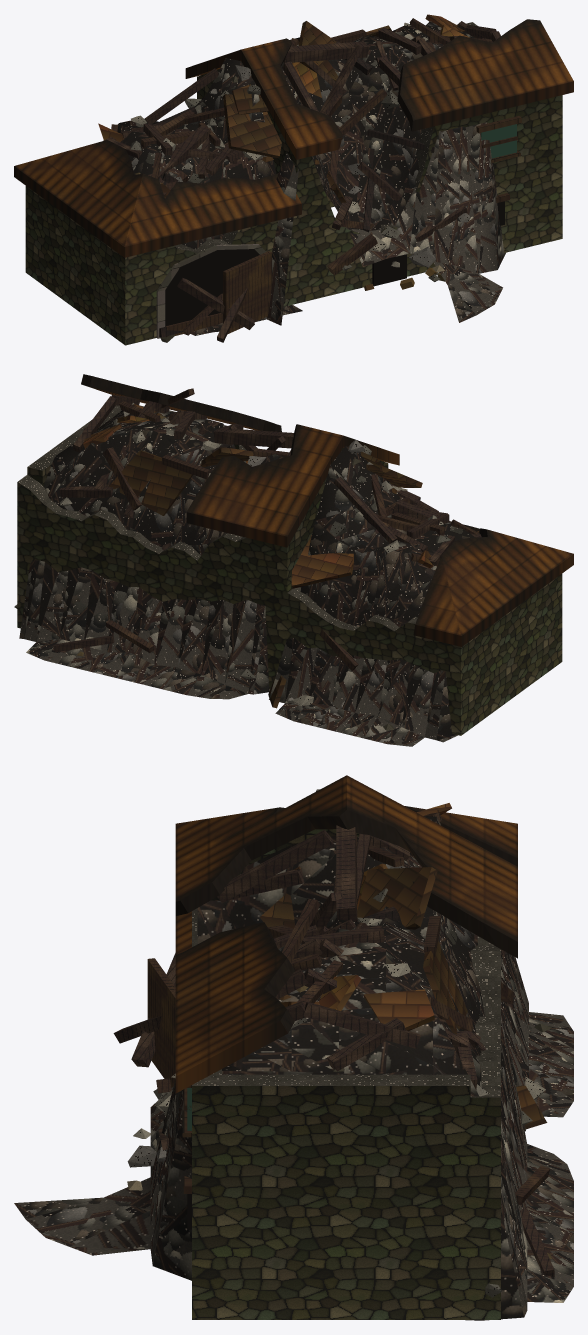
File: CreHouse02a.glb
3 renders of one model, top to bottom at view 1: azimuth 30°, elevation 25°; view 2: azimuth 150°, elevation 25°; view 3: azimuth 270°, elevation 25°, orthographic. The views are drawn at different scales.
Visible parts, largest first — view 1: CreHouse02a_rm; view 2: CreHouse02a_rm; view 3: CreHouse02a_rm.
Part boxes in pixels (x1,y1,x2,y2): CreHouse02a_rm: (14,14,573,345); CreHouse02a_rm: (14,374,573,746); CreHouse02a_rm: (14,775,573,1320).
Bounding box in the file's own units: 9.5 × 4.54 × 6.61.
Materials: 29 (27 with a texture image).
